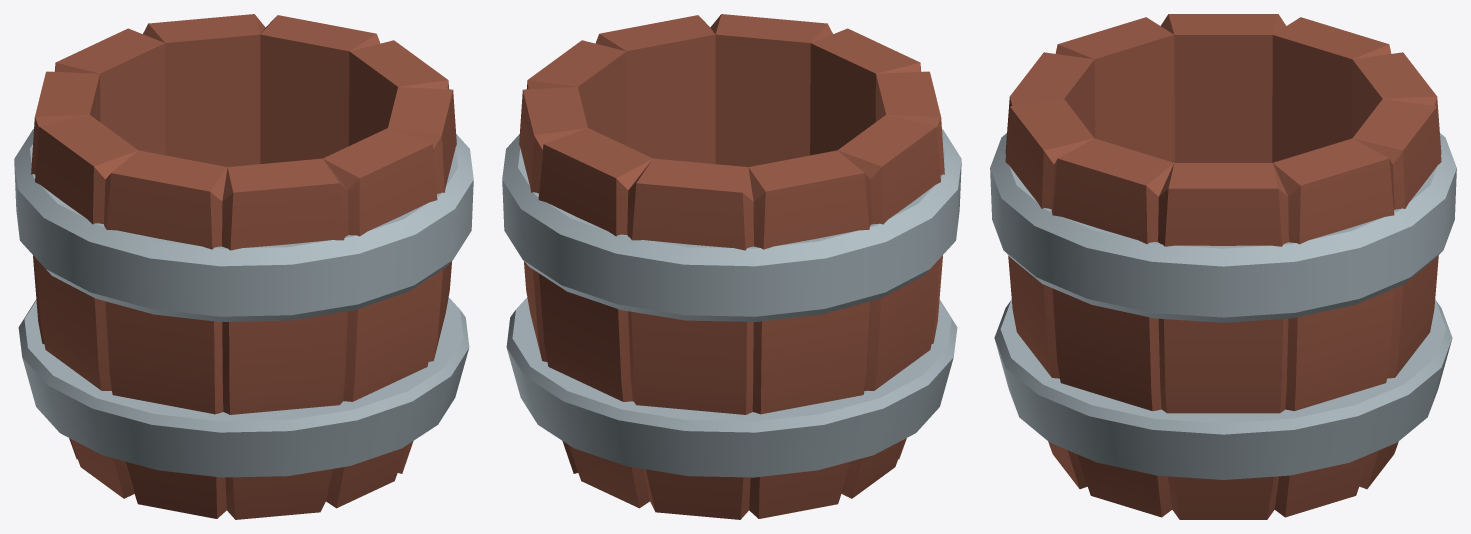
File: bucket.glb
3 views of the same model, side by side, from view 1: azimuth 30°, elevation 25°; view 2: azimuth 150°, elevation 25°; view 3: azimuth 270°, elevation 25° (orthographic).
Visible parts, largest first — view 1: bucket; view 2: bucket; view 3: bucket.
Boxes of the visible parts, x1,y1,x2,y2 form: bucket: (14,14,473,519); bucket: (502,14,961,519); bucket: (990,14,1456,519).
Size of the model in its own units: 0.8822 by 0.7325 by 0.8822.
